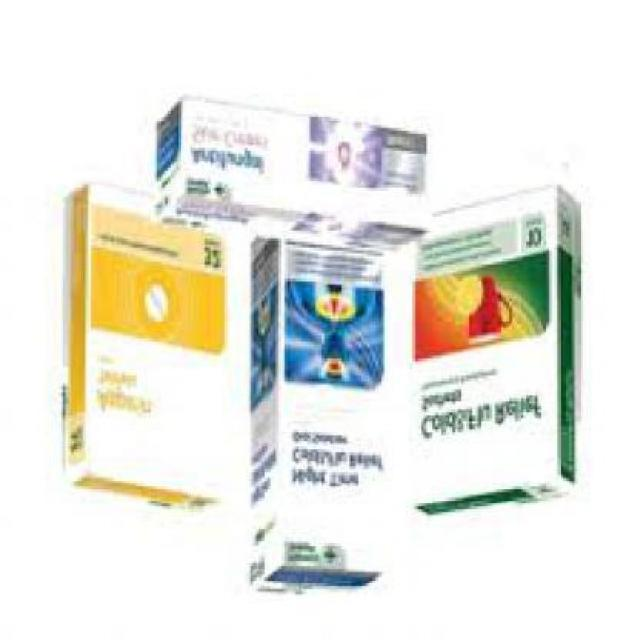box: (411, 188, 575, 523), (245, 237, 396, 598), (63, 190, 223, 516), (154, 100, 421, 260)
